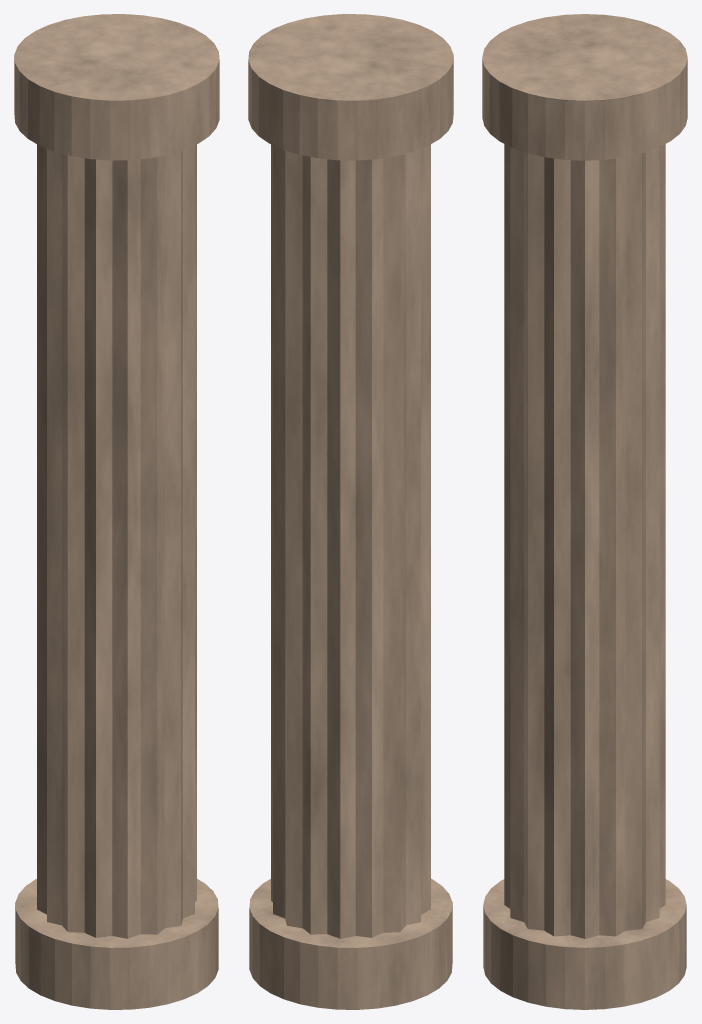
Rendered from Pillar_Rock_Rounded.fbx.
3 views of the same model, side by side, from view 1: azimuth 30°, elevation 25°; view 2: azimuth 150°, elevation 25°; view 3: azimuth 270°, elevation 25° (orthographic).
Parts seen in each view (by area): view 1: Pillar_Circular.001; view 2: Pillar_Circular.001; view 3: Pillar_Circular.001.
Part boxes in pixels (bbox=[...]): Pillar_Circular.001: bbox=[14, 14, 219, 1009]; Pillar_Circular.001: bbox=[248, 14, 453, 1009]; Pillar_Circular.001: bbox=[482, 14, 687, 1009].
Size of the model in its own units: 106 by 517 by 106.
Materials: 1 (1 with a texture image).
